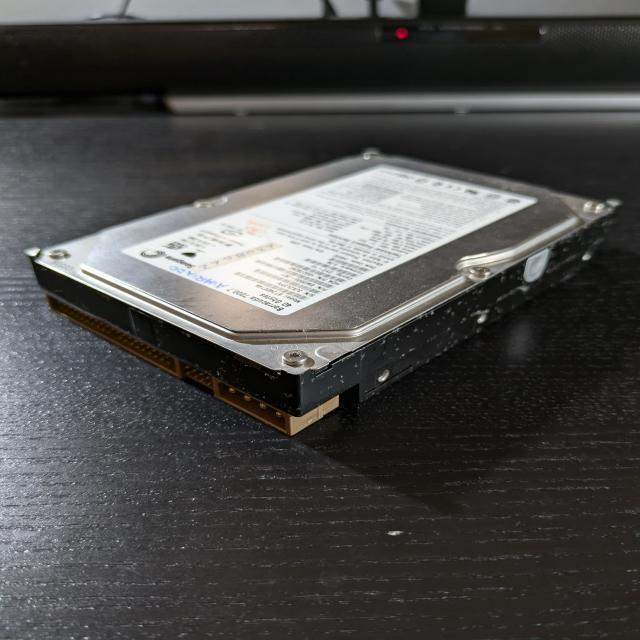DISK: (23, 148, 623, 438)
